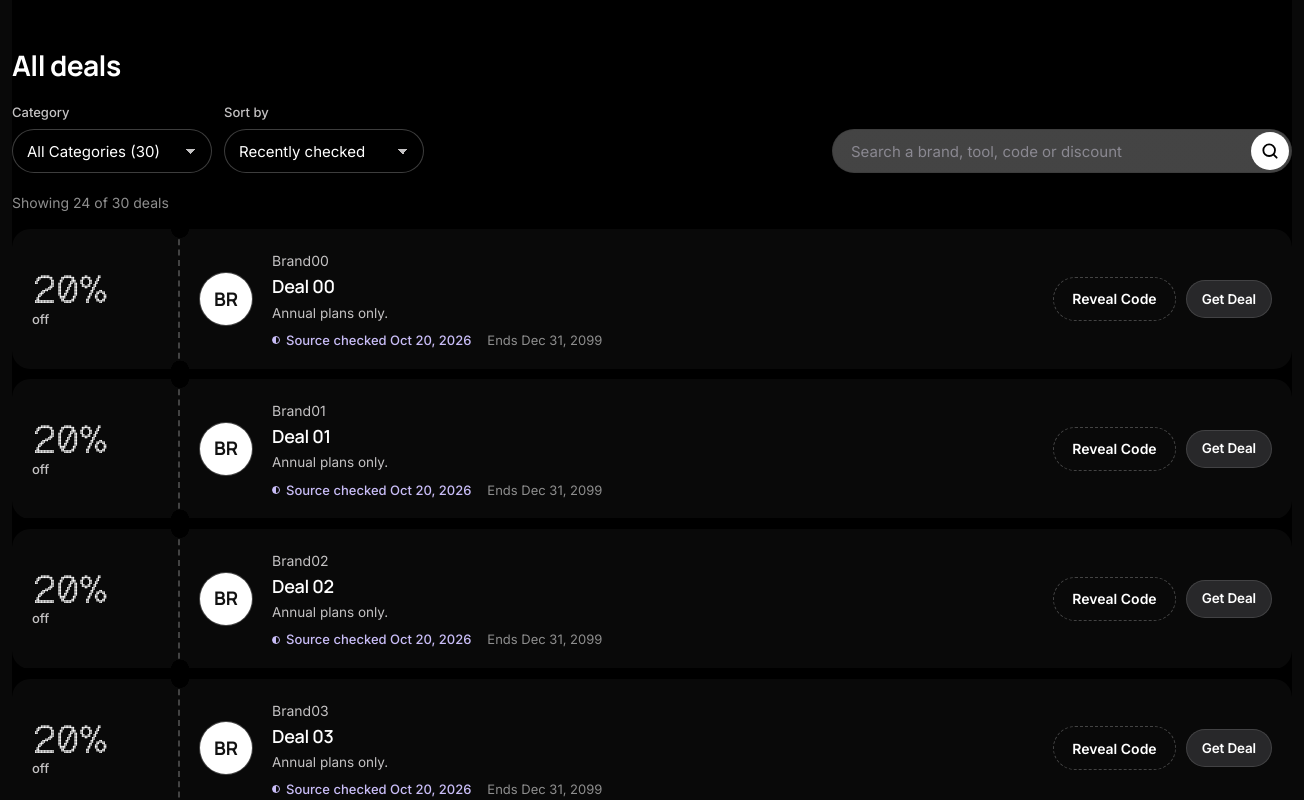
Test: Deals list › filters by the category pill, mirrors it in the URL and resets
Select "AI Video (15)" in the dropdown labelled "Category". click: [112, 151]
box: [12,129,212,173]
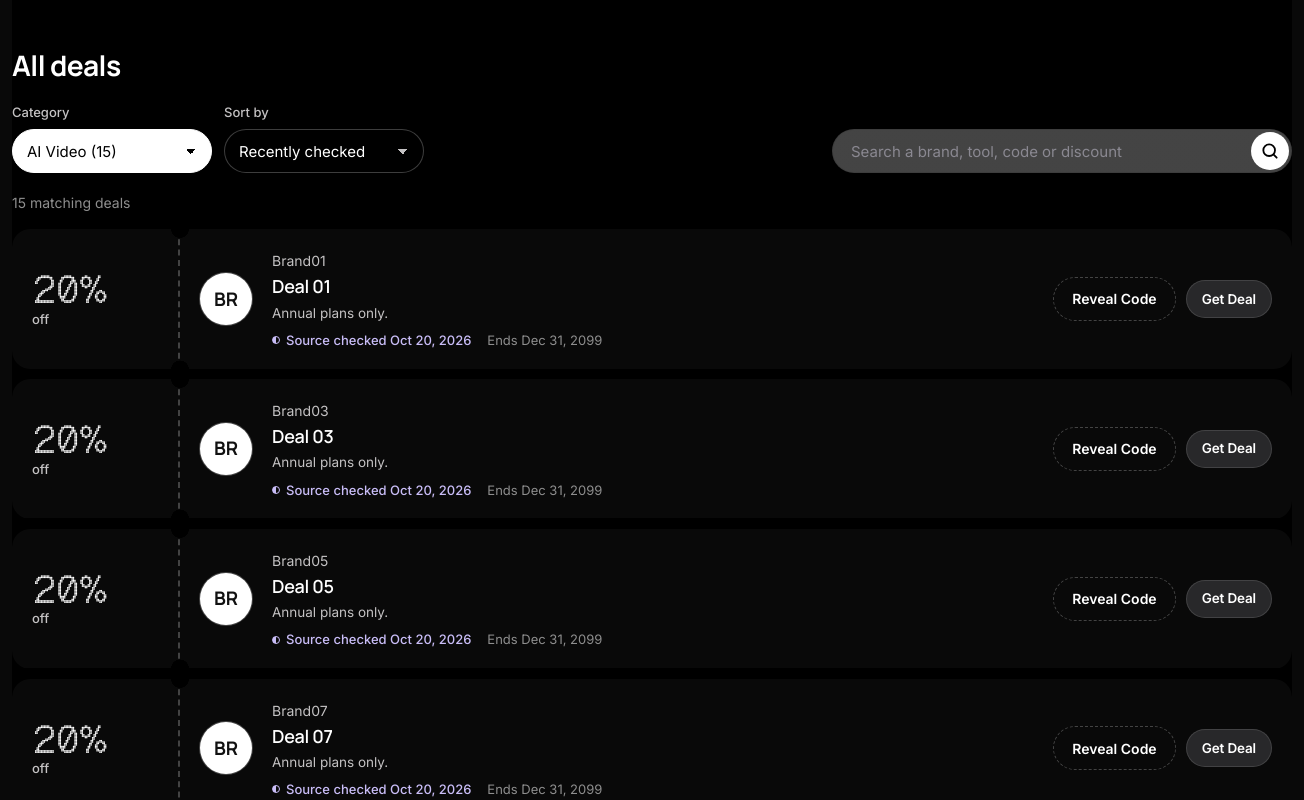
Now the number of list items with class "deal-row" is 15
Select "All Categories (30)" in the dropdown labelled "Category". click: [112, 151]
box: [12,129,212,173]
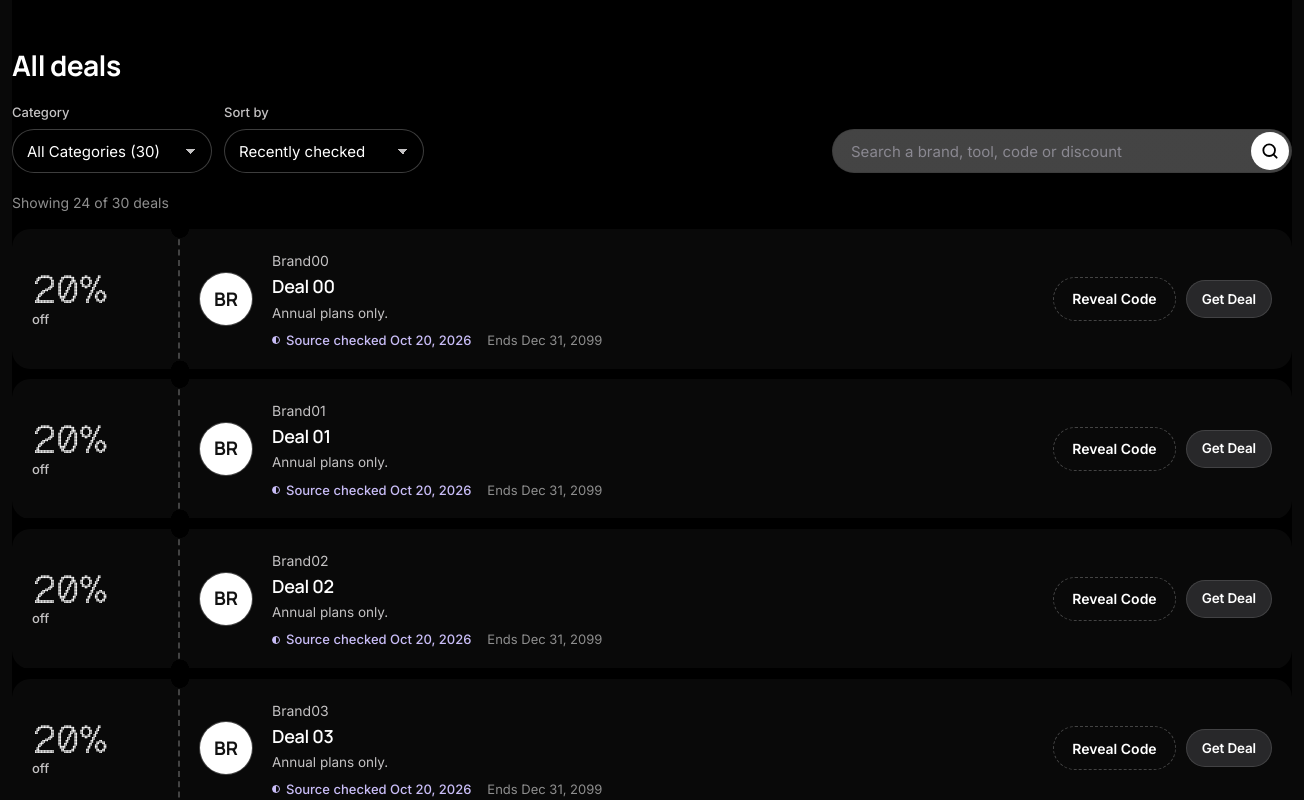
Now the number of list items with class "deal-row" is 24
